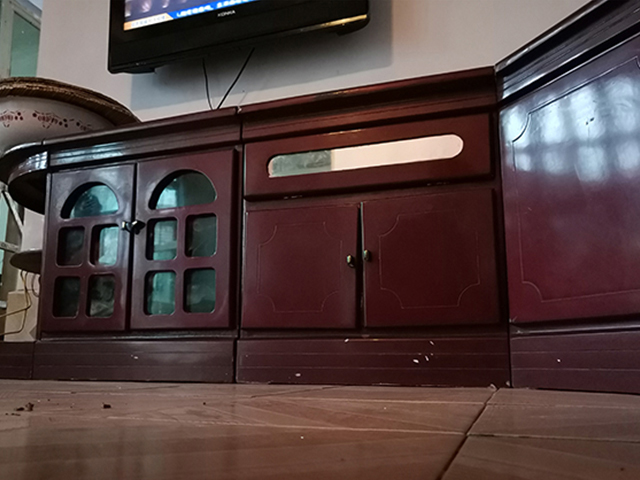cabinet: (1, 1, 640, 396)
